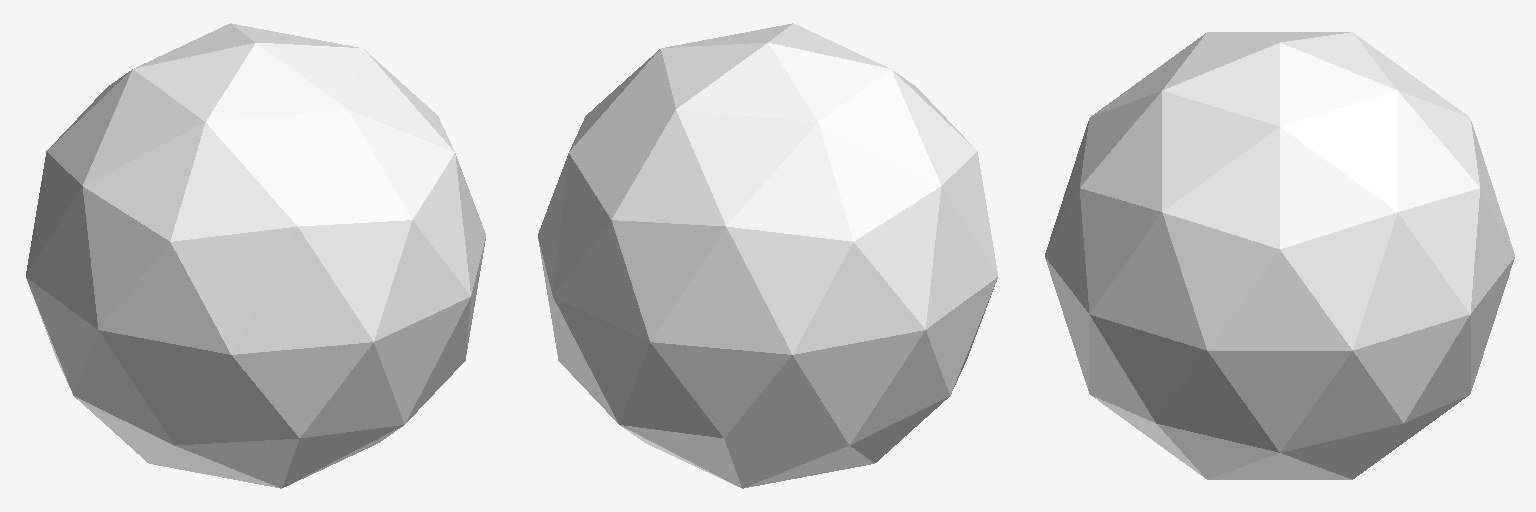
3 renders of one model, left to right at view 1: azimuth 30°, elevation 25°; view 2: azimuth 150°, elevation 25°; view 3: azimuth 270°, elevation 25°, orthographic.
Parts seen in each view (by area): view 1: Icosphere; view 2: Icosphere; view 3: Icosphere.
Boxes of the visible parts, x1,y1,x2,y2 form: Icosphere: [26, 23, 485, 488]; Icosphere: [538, 23, 997, 488]; Icosphere: [1045, 32, 1514, 479].
Bounding box in the file's own units: 1.9 × 2 × 2.
Materials: 1 (1 with a texture image).